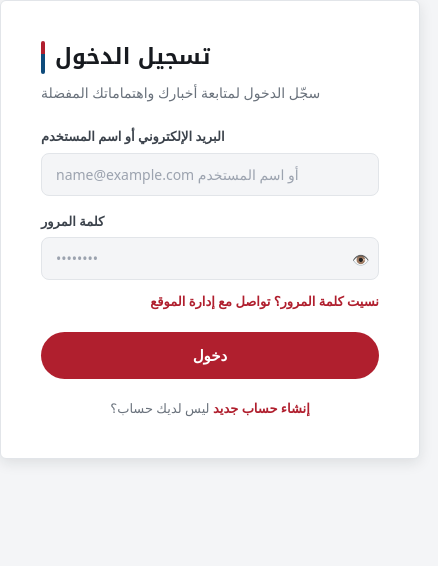
Test: LoginForm › clears the error when the reader switches to registering
This screenshot has width=438, height=566.
Step 1. Type "m.eladawy" into the field labelled "البريد الإلكتروني أو اسم المستخدم" → (210, 174), box [41,152,379,196]
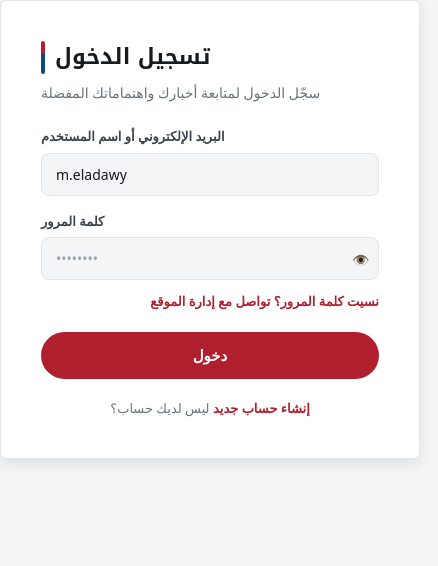
Step 2. Type "hunter2" into the password field labelled "كلمة المرور" → (210, 258), box [41,237,379,280]
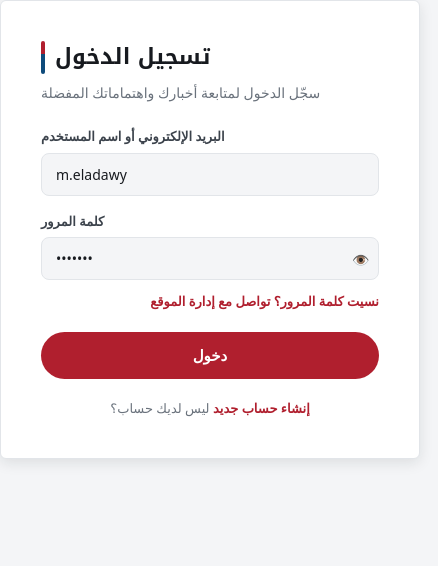
Step 3. Click the button "دخول" → (210, 355), box [41,332,379,378]
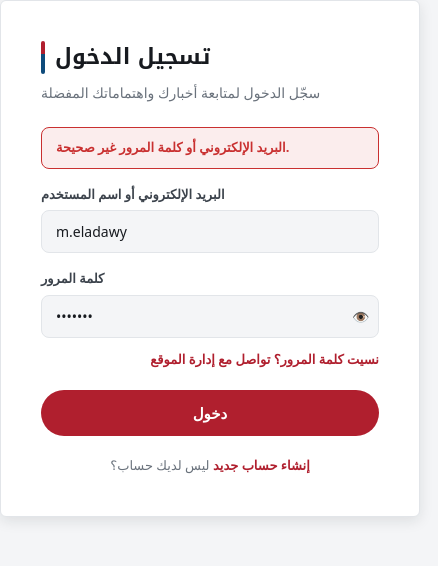
Result: the message "البريد الإلكتروني أو كلمة المرور غير صحيحة." is shown at [41,127,379,168]
Step 4. Click the button "إنشاء حساب جديد" → (261, 466), box [213,456,310,476]
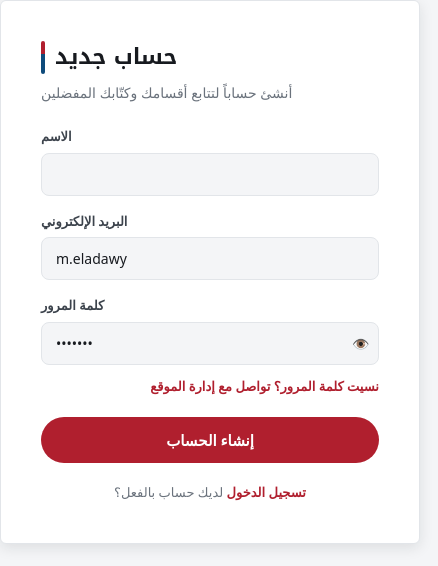
Result: the message "البريد الإلكتروني أو كلمة المرور غير صحيحة." is gone
